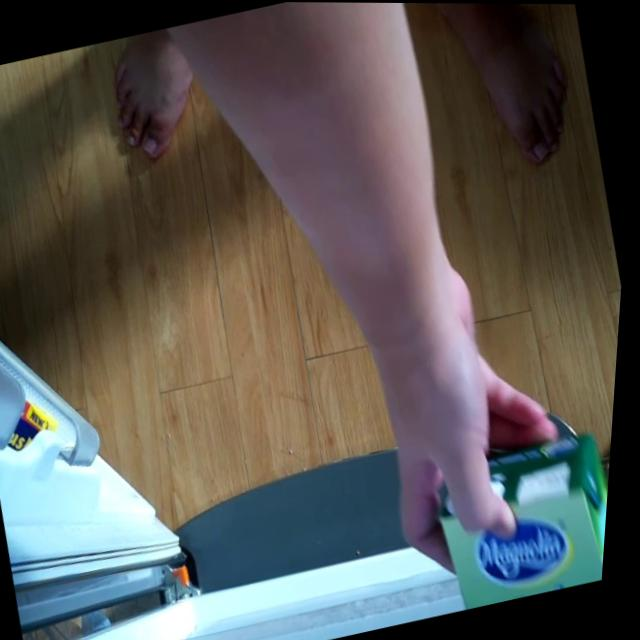milk: (421, 426, 618, 614)
